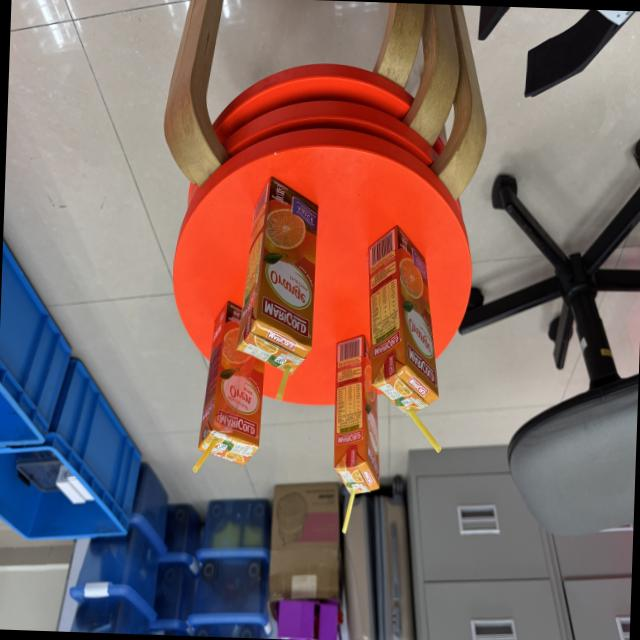drink_carton: (359, 217, 456, 460), (232, 168, 324, 413), (322, 316, 392, 554), (188, 296, 274, 486)
